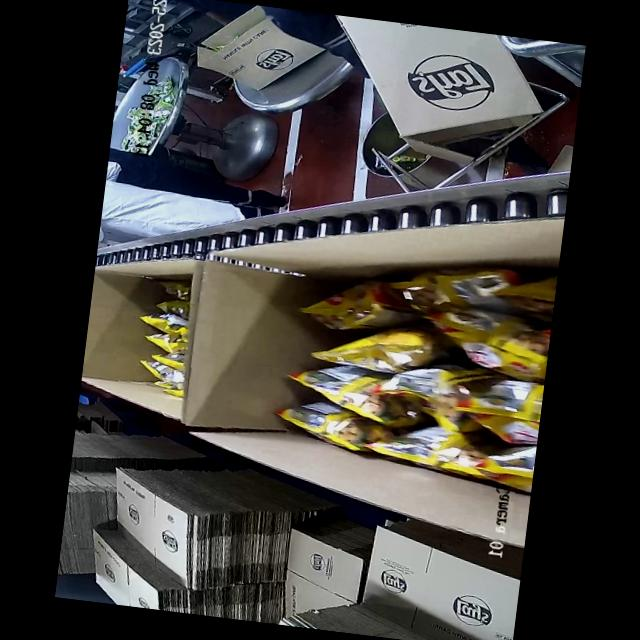salted: (268, 274, 554, 462), (117, 278, 197, 391)
